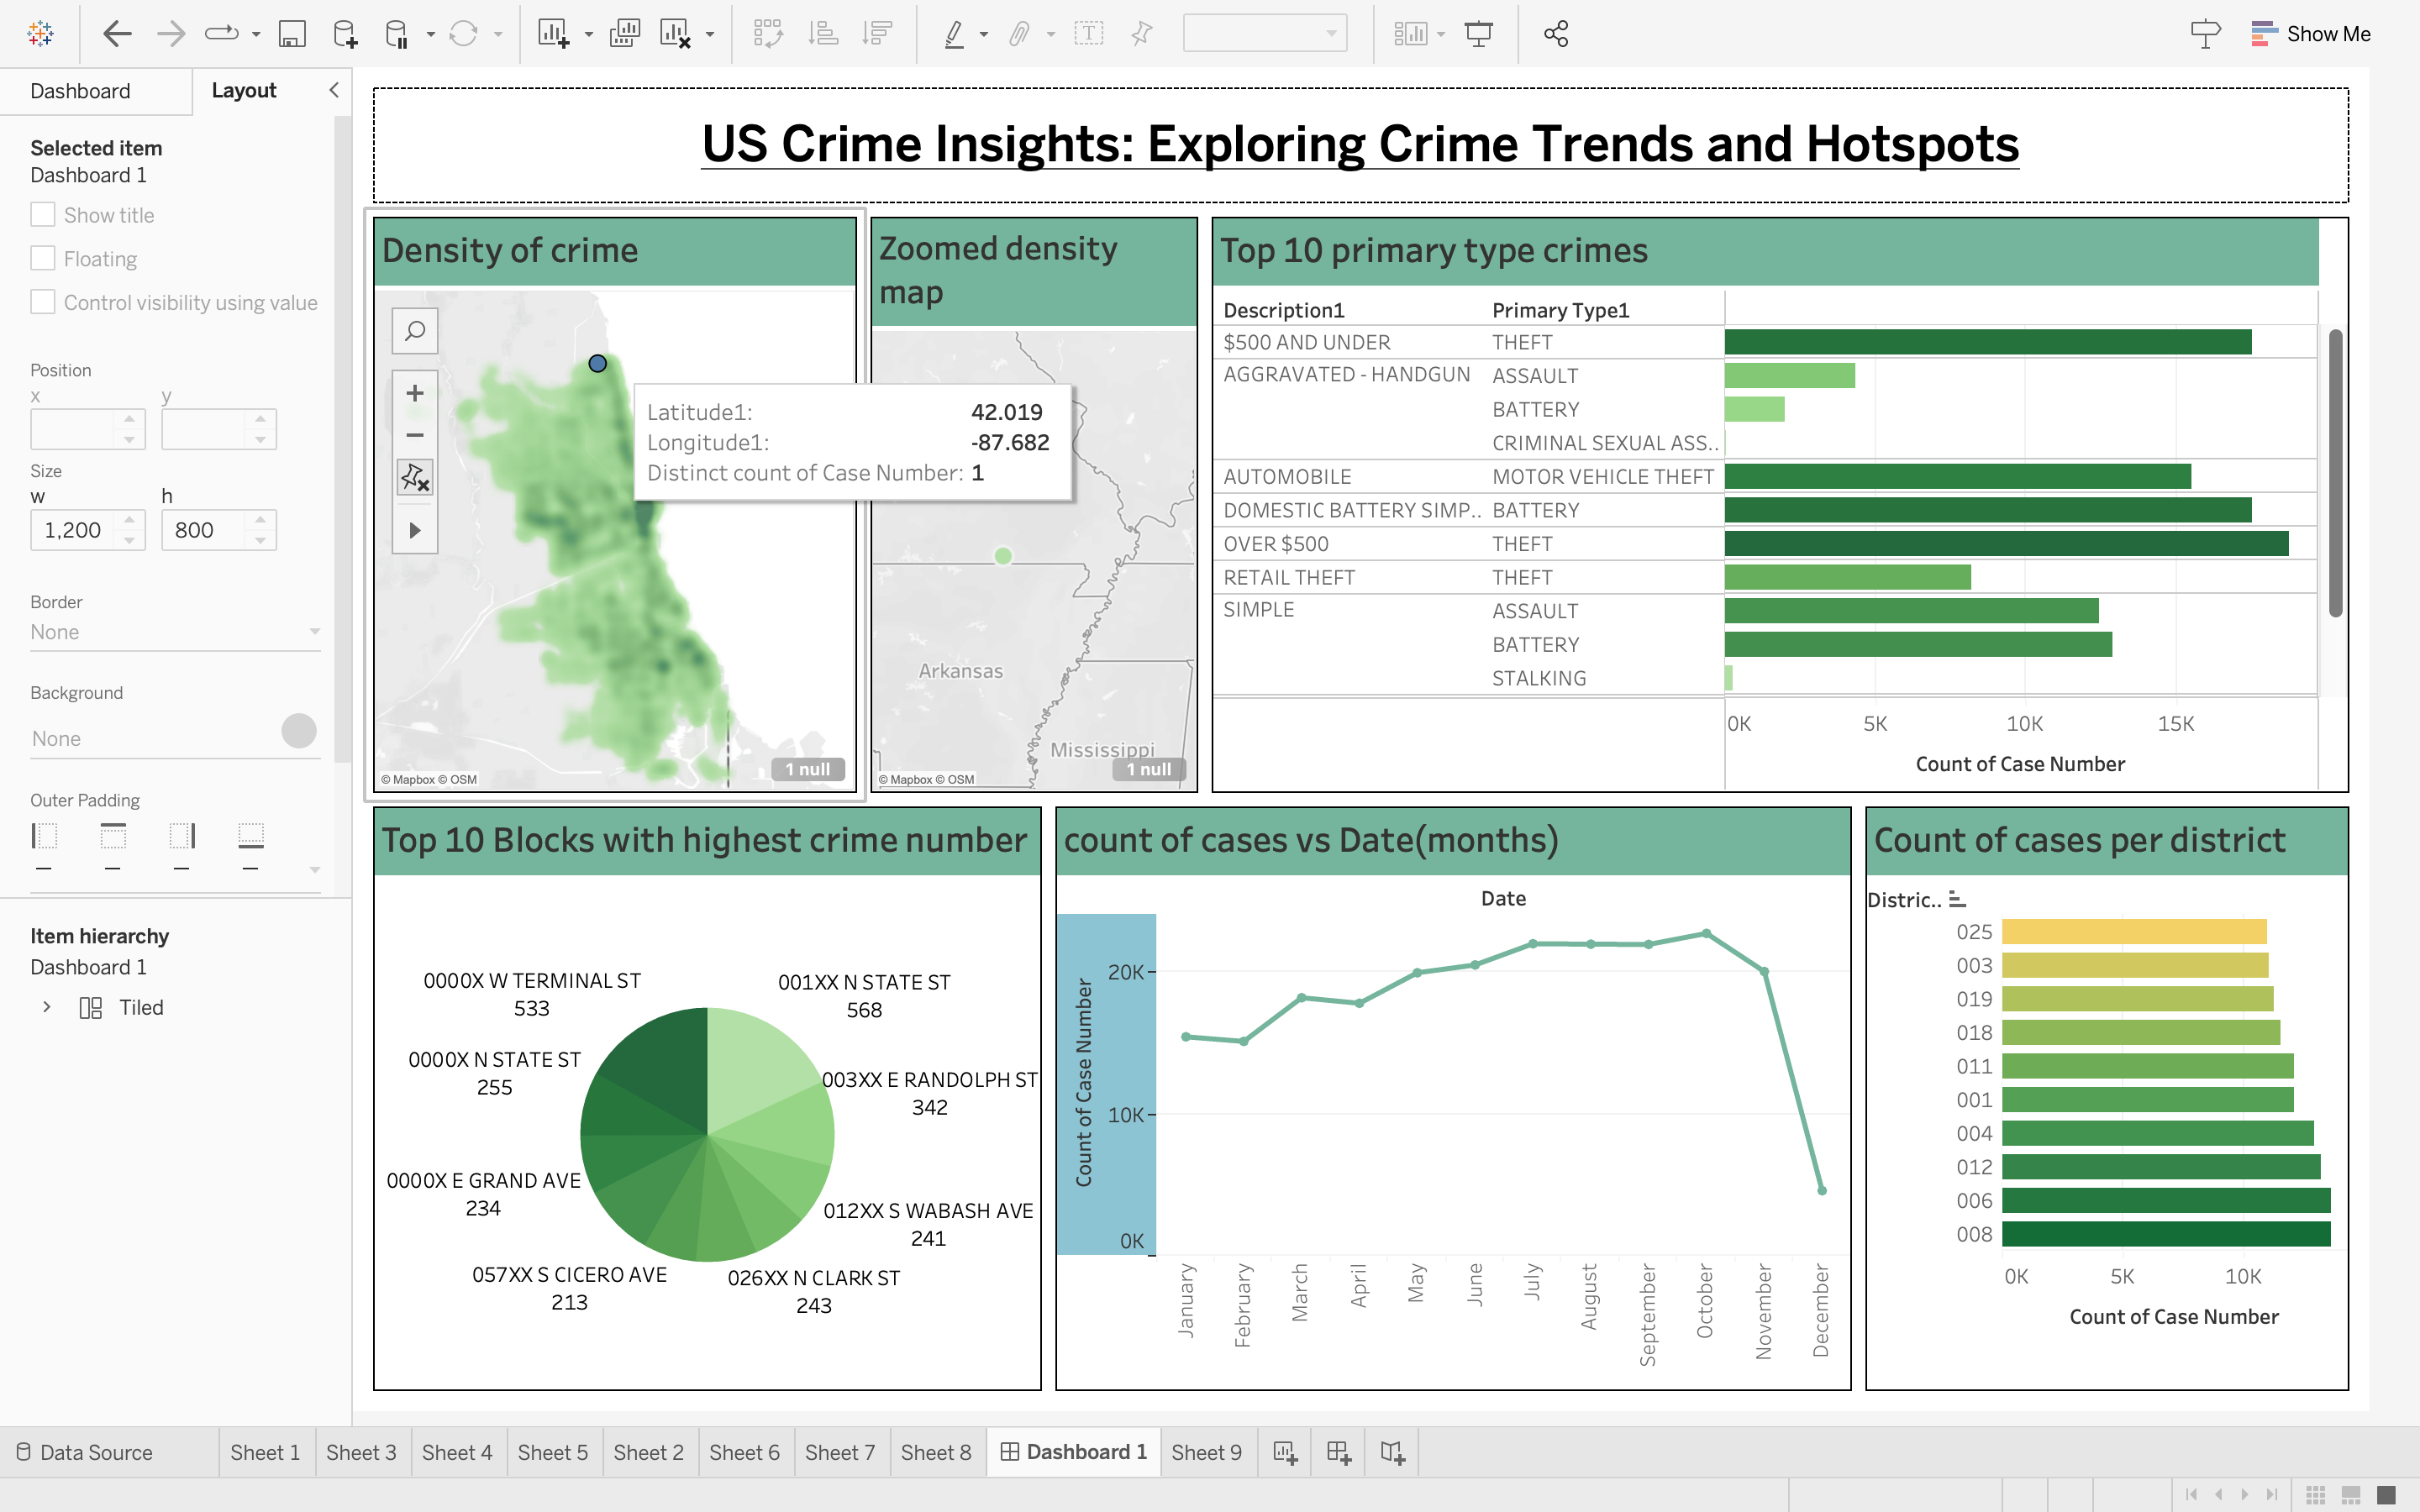

What the dashboard file says about the page in this screenshot:
{"tool":"tableau","page":{"name":"Dashboard 1","canvas":[1200,800],"ordinal":0},"visuals":[{"type":"text","box":[8,8,1184,77]},{"type":"worksheet","title":"Sheet 6","mark":"Heatmap","rows":["Latitude"],"cols":["Longitude"],"box":[8,85,296,351]},{"type":"worksheet","title":"Sheet 7","mark":"Circle","rows":["Latitude"],"cols":["Longitude"],"box":[304,85,203,351]},{"type":"worksheet","title":"Sheet 5","mark":"Automatic","rows":["Description","Primary Type"],"cols":["Case Number"],"box":[507,85,685,351]},{"type":"worksheet","title":"Sheet 2","mark":"Pie","box":[8,436,406,356]},{"type":"worksheet","title":"Sheet 3","mark":"Automatic","rows":["Case Number"],"cols":["Date"],"box":[414,436,482,356]},{"type":"worksheet","title":"Sheet 1","mark":"Automatic","rows":["District"],"cols":["Case Number"],"box":[896,436,296,356]}]}

Visuals, with their boxes on the page's 1200x800 design canvas (x1, y1, x2, y2). These are canvas units, not pixel positions in the 2420x1512 screenshot, which may show the page scaled, cropped or inside an application window:
text: Rect(8, 8, 1192, 85)
"Sheet 6" worksheet (Heatmap marks): Rect(8, 85, 304, 436)
"Sheet 7" worksheet (Circle marks): Rect(304, 85, 507, 436)
"Sheet 5" worksheet: Rect(507, 85, 1192, 436)
"Sheet 2" worksheet (Pie marks): Rect(8, 436, 414, 792)
"Sheet 3" worksheet: Rect(414, 436, 896, 792)
"Sheet 1" worksheet: Rect(896, 436, 1192, 792)
